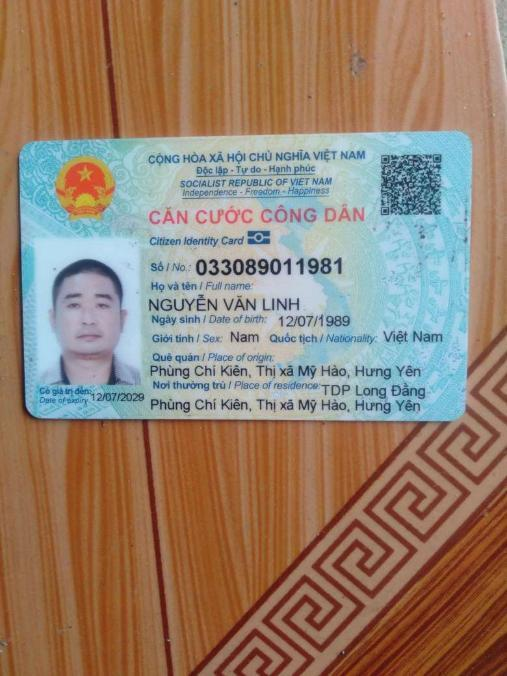ID: (195, 252, 347, 279)
birth: (273, 311, 353, 329)
name: (144, 292, 302, 316)
place: (147, 361, 425, 380)
residence: (147, 394, 425, 419), (320, 378, 428, 401)
